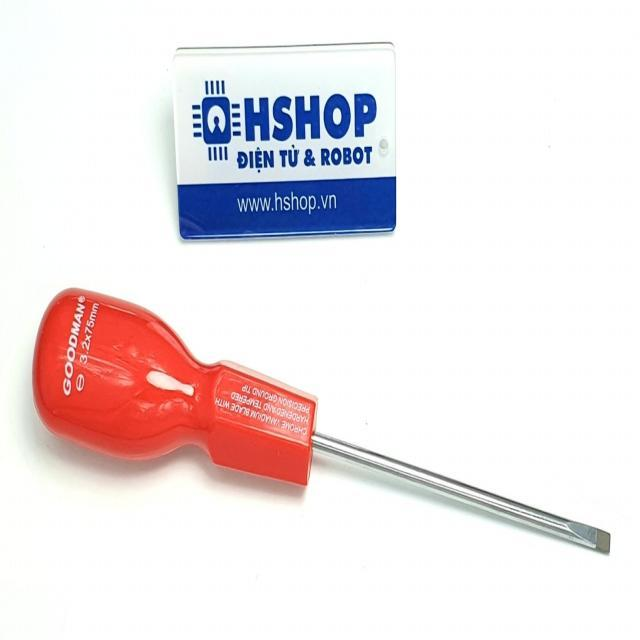screwdriver: (30, 284, 614, 560)
